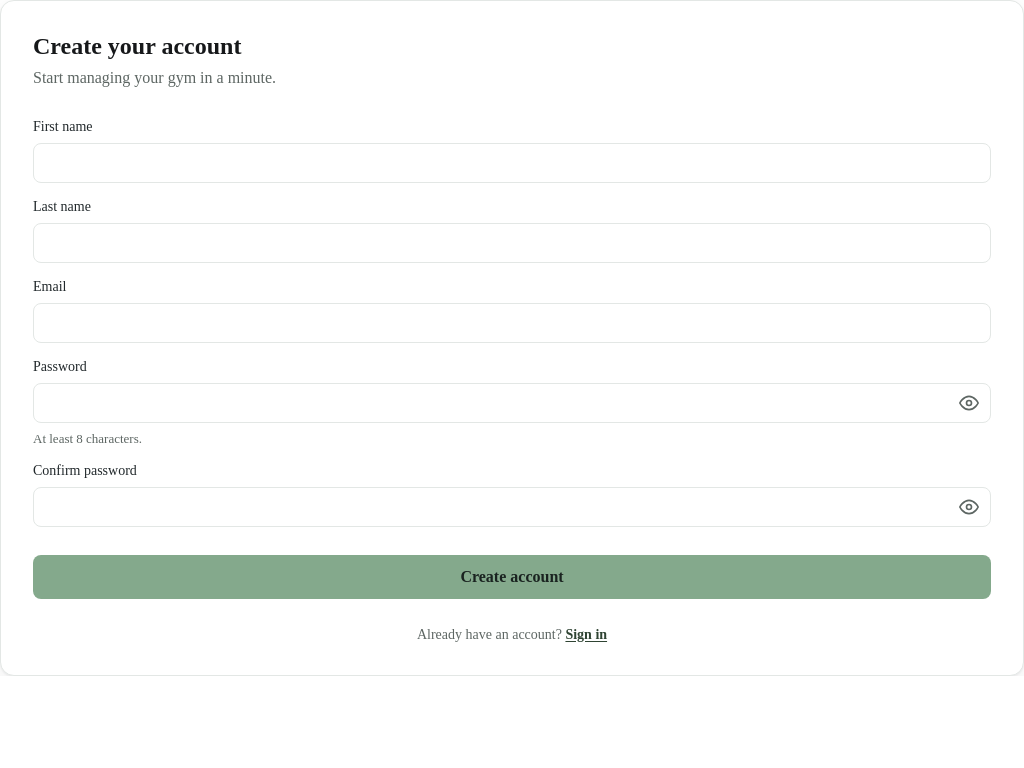
Test: registration validation › requires every field
Click the button "Create account".
click(512, 577)  # box [33,555,991,599]
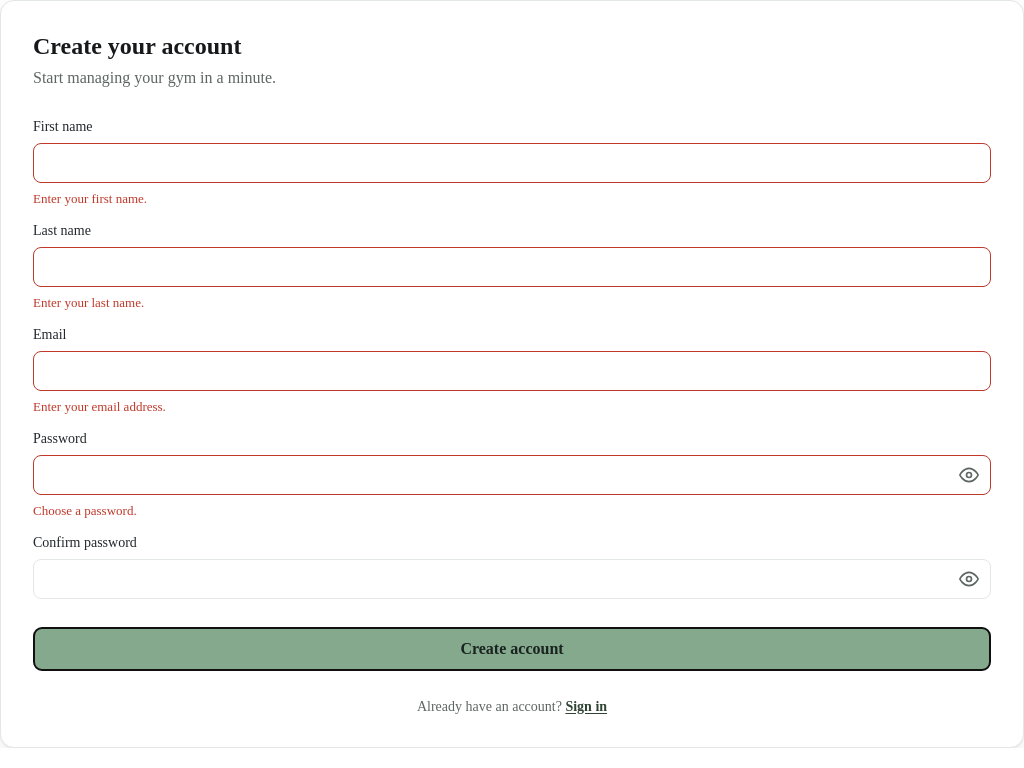
Now the text "Enter your first name." is shown, box [33,191,147,206]
Now the text "Enter your last name." is shown, box [33,295,144,310]
Now the text "Enter your email address." is shown, box [33,399,166,414]
